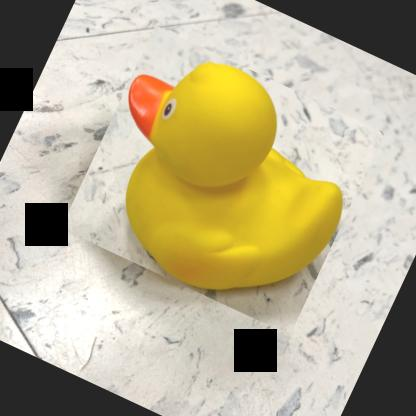duck: (61, 26, 385, 336)
